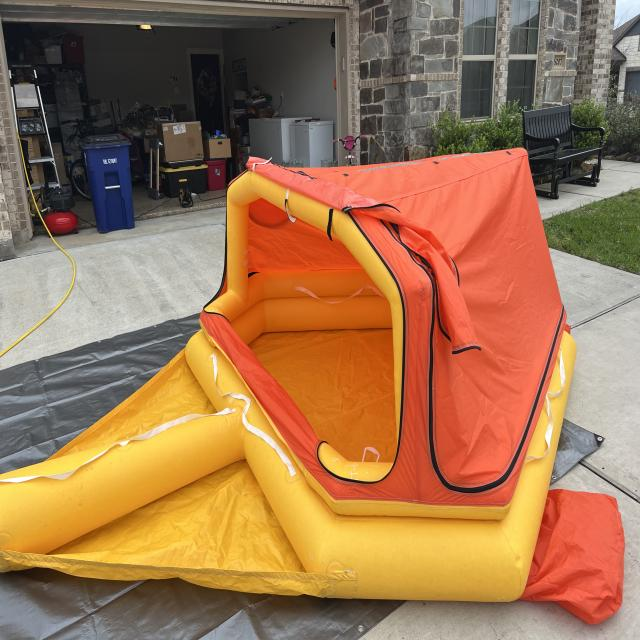Multi-person_life_raft: (0, 148, 624, 627)
